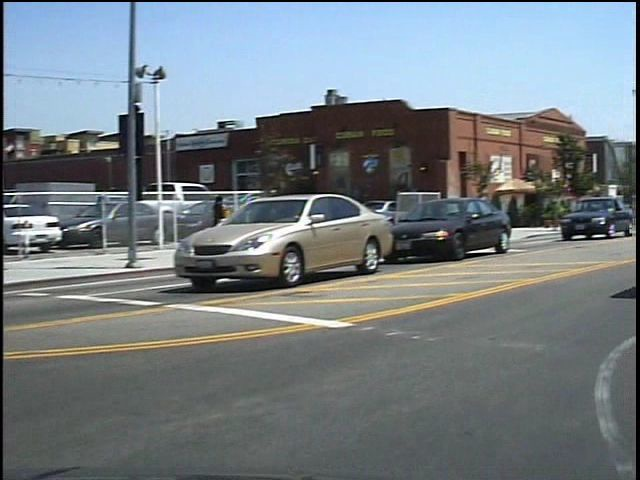person: (216, 183, 242, 247)
